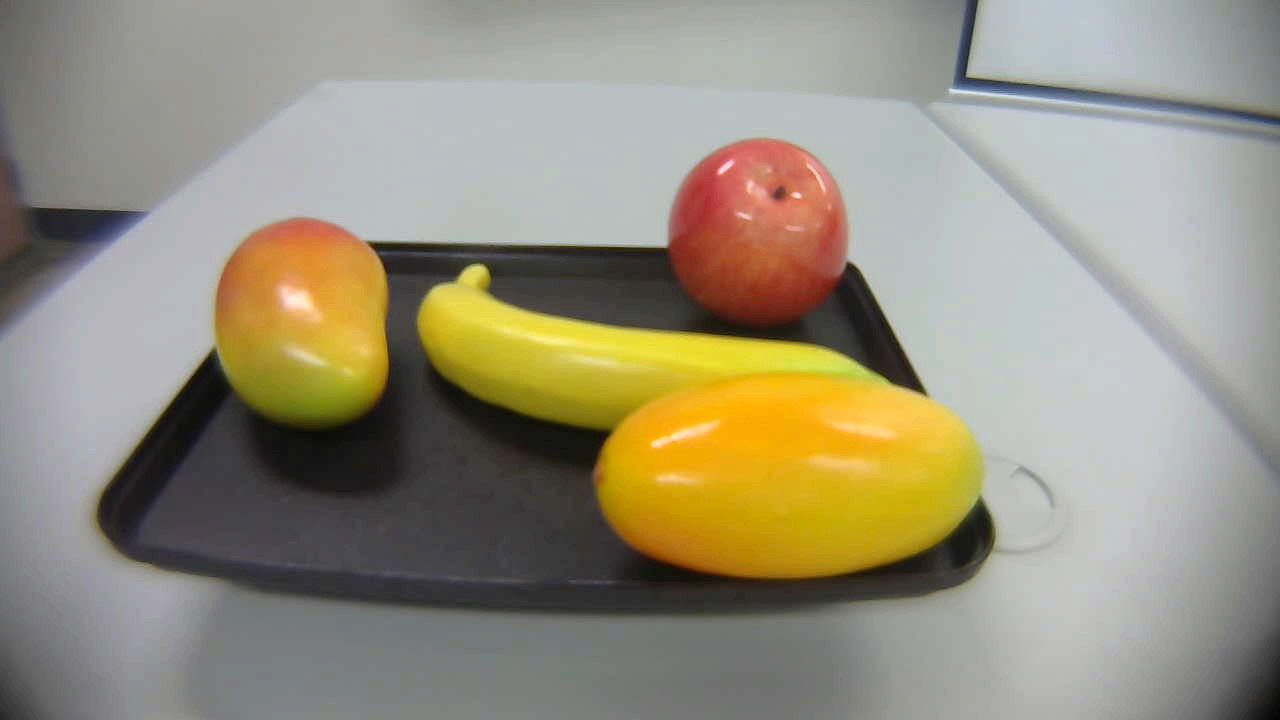banana: (407, 248, 903, 441)
red apple: (668, 133, 848, 331)
red mango: (197, 209, 407, 459)
yellow mango: (570, 359, 997, 586)
